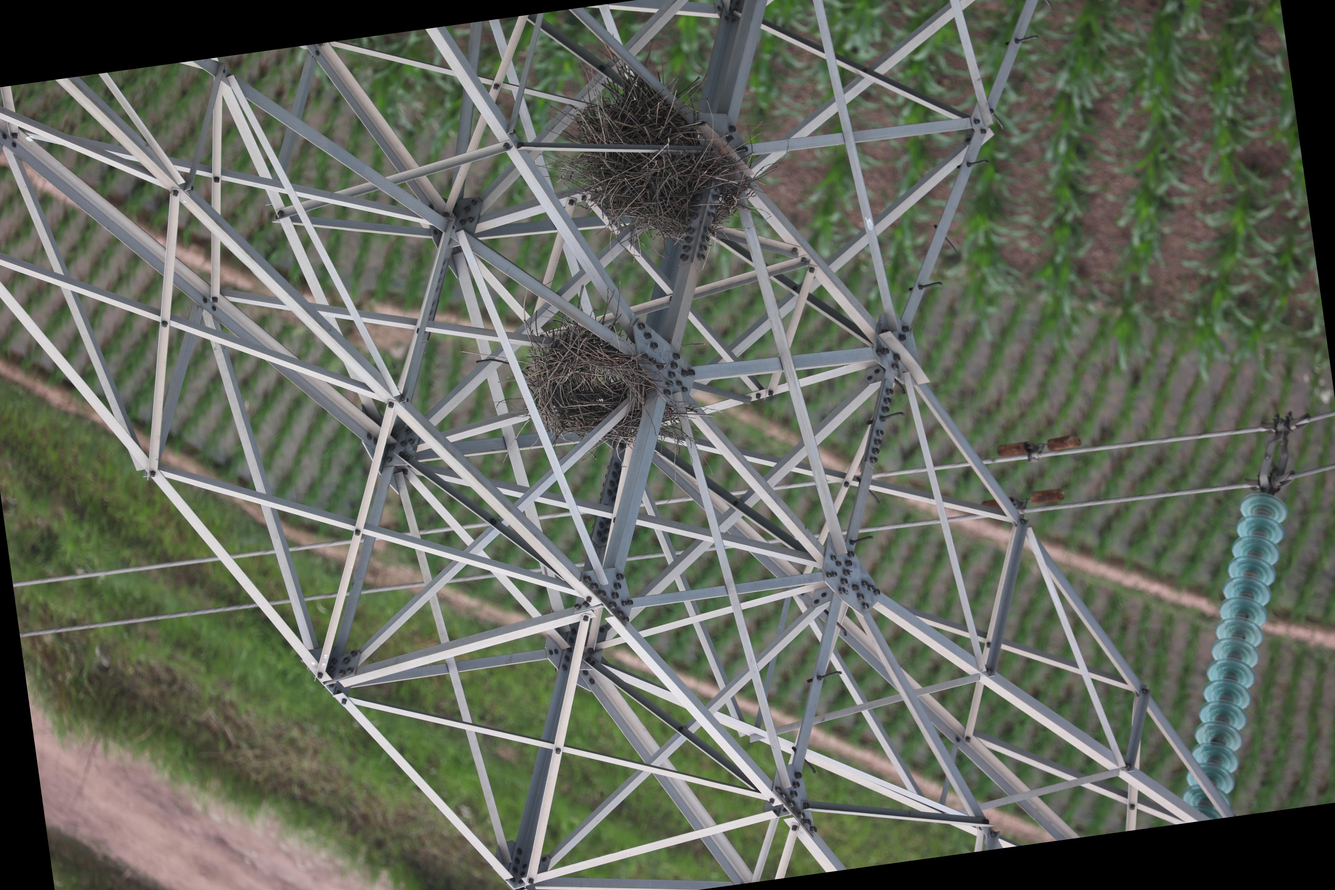damper_defect: (994, 430, 1086, 470), (979, 486, 1069, 516)
